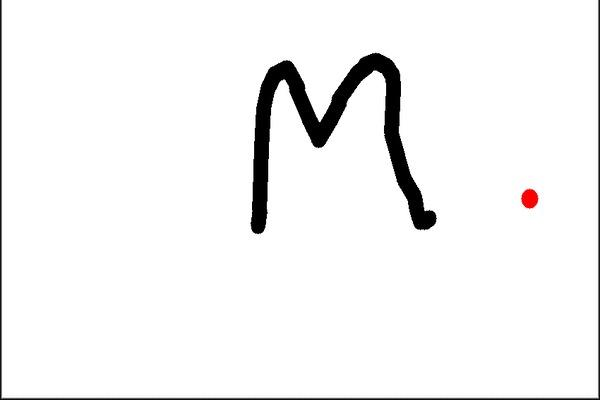M: (245, 51, 437, 235)
